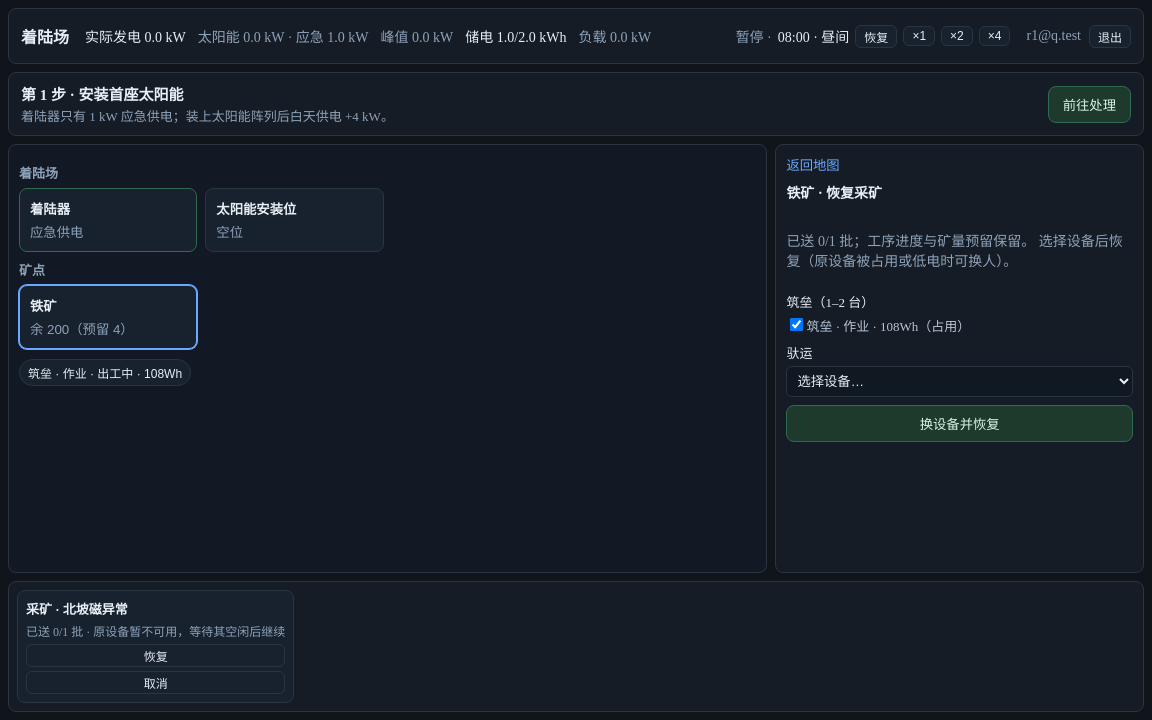
it: LandingShell › 暂停采矿可取消勾选当前已被占用的原矿工，清空后禁用恢复
Click the checkbox labelled "筑垒 · 作业 · 108Wh（占用）".
click(797, 324)  # box [790, 318, 803, 331]
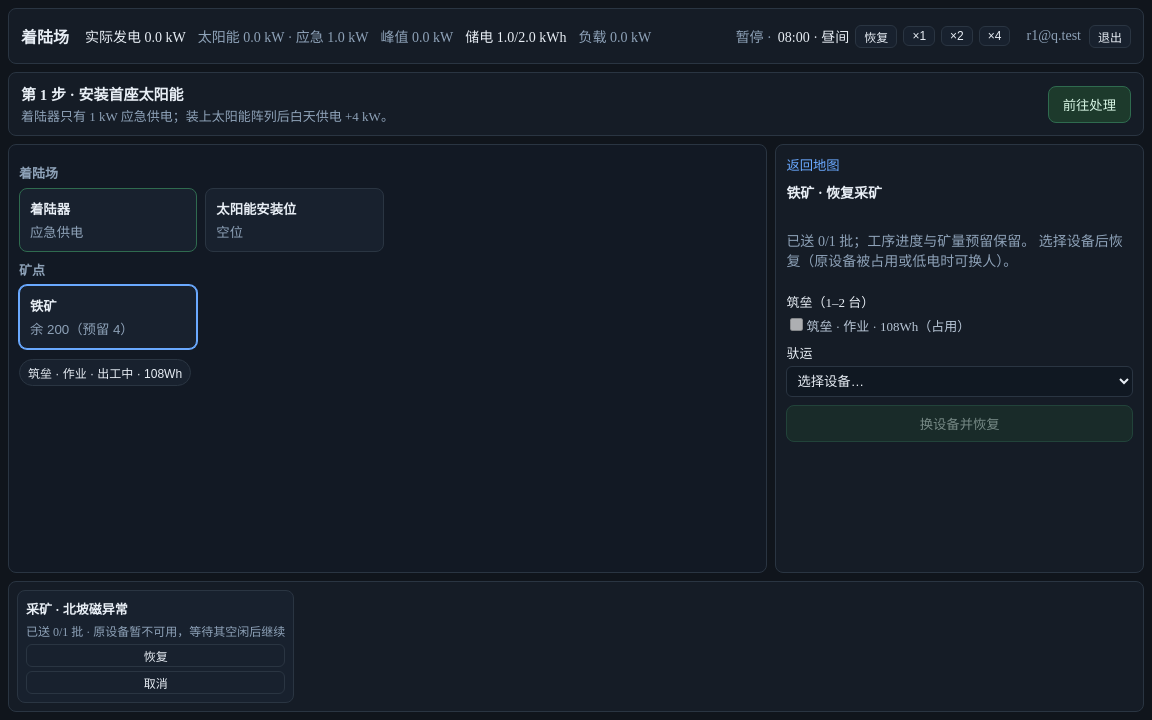
Expected: the checkbox labelled "筑垒 · 作业 · 108Wh（占用）" is not checked, [790, 318, 803, 331]
Expected: the button "换设备并恢复" is disabled, [786, 405, 1133, 442]
